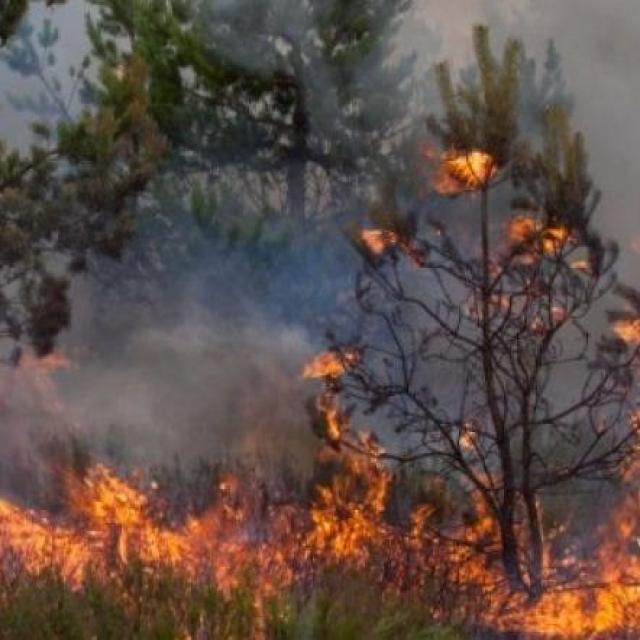Fire: (0, 470, 633, 640), (312, 345, 400, 472), (440, 132, 499, 194), (365, 222, 399, 248)
Smoke: (0, 234, 314, 468)
